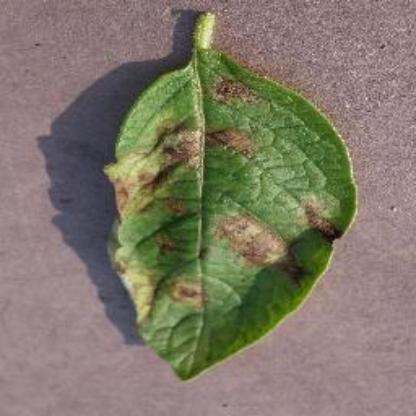Late-Blight: (88, 13, 364, 386)
